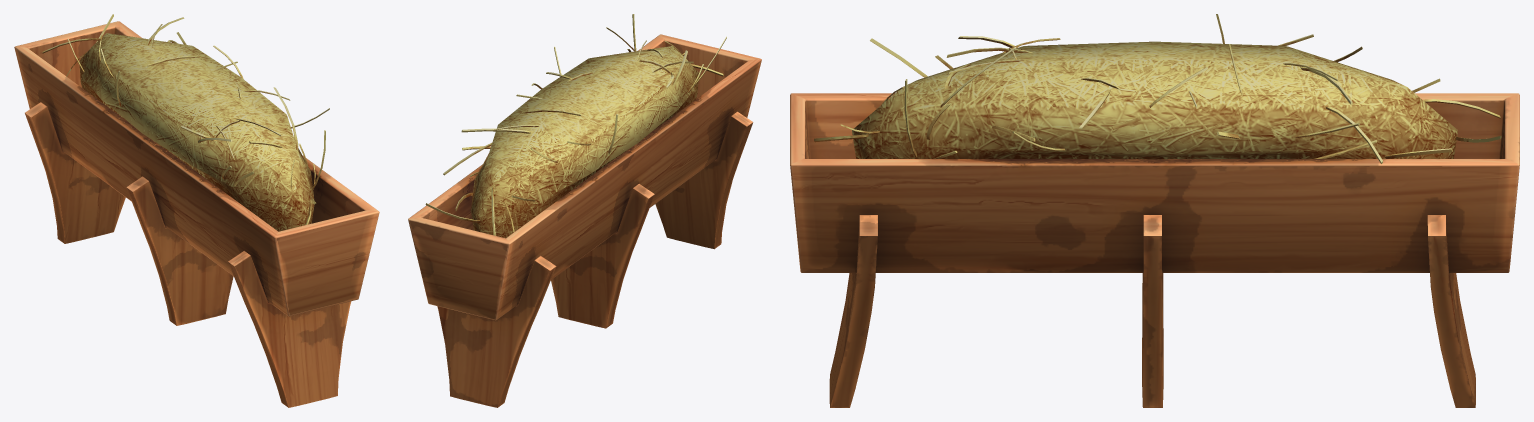
File: Feeder03.FBX
3 renders of one model, left to right at view 1: azimuth 30°, elevation 25°; view 2: azimuth 150°, elevation 25°; view 3: azimuth 270°, elevation 25°, orthographic. The views are drawn at different scales.
Parts seen in each view (by area): view 1: Feeder03; view 2: Feeder03; view 3: Feeder03.
Part boxes in pixels (x1,y1,x2,y2): Feeder03: (14,14,379,407); Feeder03: (408,14,761,407); Feeder03: (790,14,1519,407).
Size of what is drawn, in the model's own units: 0.6656 by 1.1 by 2.
